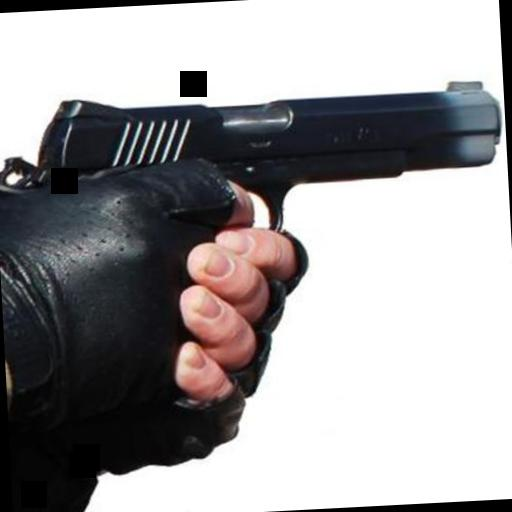Handgun: (30, 73, 510, 251)
